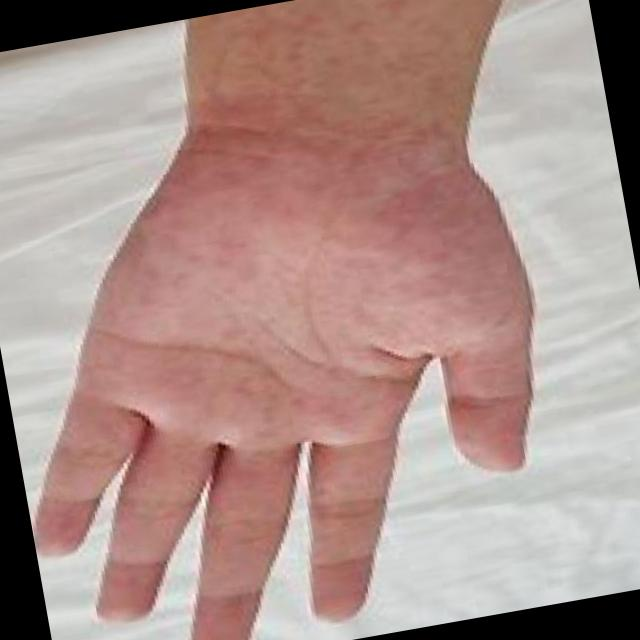not-gloved: (0, 75, 595, 640)
